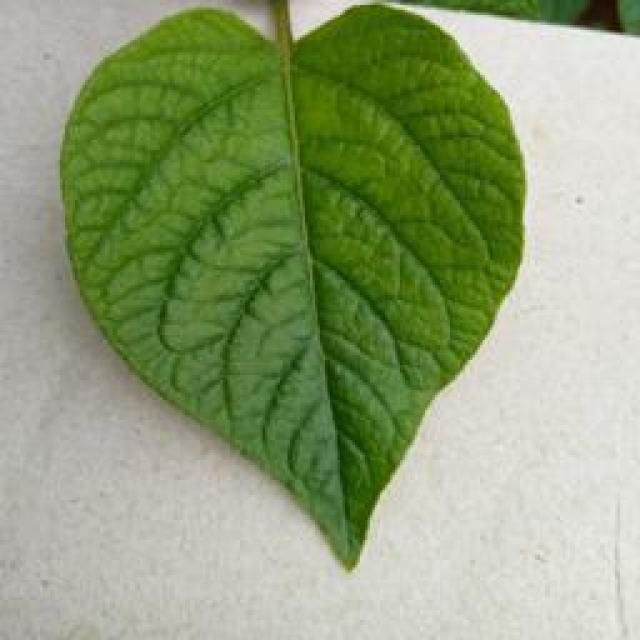healthy: (52, 0, 532, 572)
